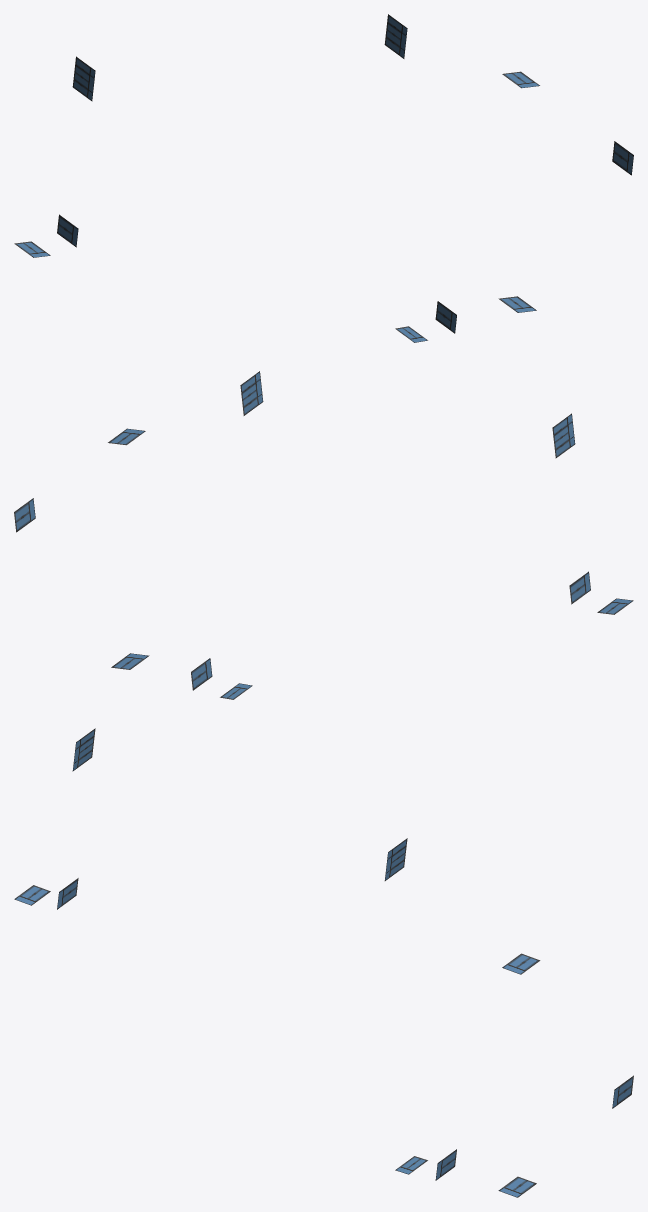
Rendered from data37.glb.
3 renders of one model, top to bottom at view 1: azimuth 30°, elevation 25°; view 2: azimuth 150°, elevation 25°; view 3: azimuth 330°, elevation 25°, orthographic.
Parts seen in each view (by area): view 1: data37; view 2: data37; view 3: data37.
Boxes of the visible parts, box(x1,y1,x2,y2) form: data37: box(14, 14, 633, 342); data37: box(14, 371, 633, 699); data37: box(14, 728, 633, 1197).
Bounding box in the file's own units: 37.3 × 20.84 × 2.1.
Materials: 1 (1 with a texture image).
